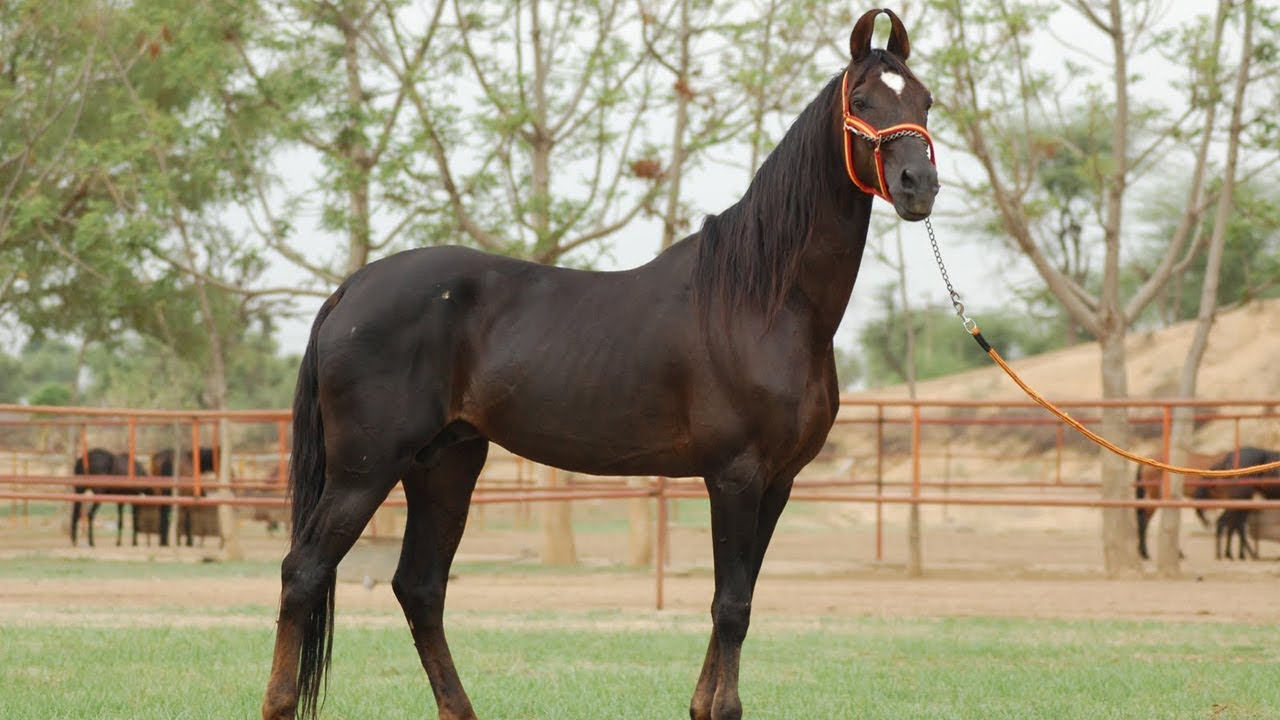horse: (251, 6, 942, 720)
